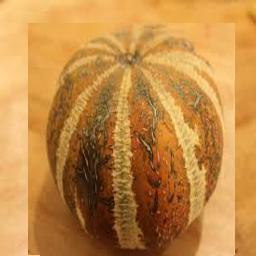Melon Semirotten: (28, 23, 234, 256)
